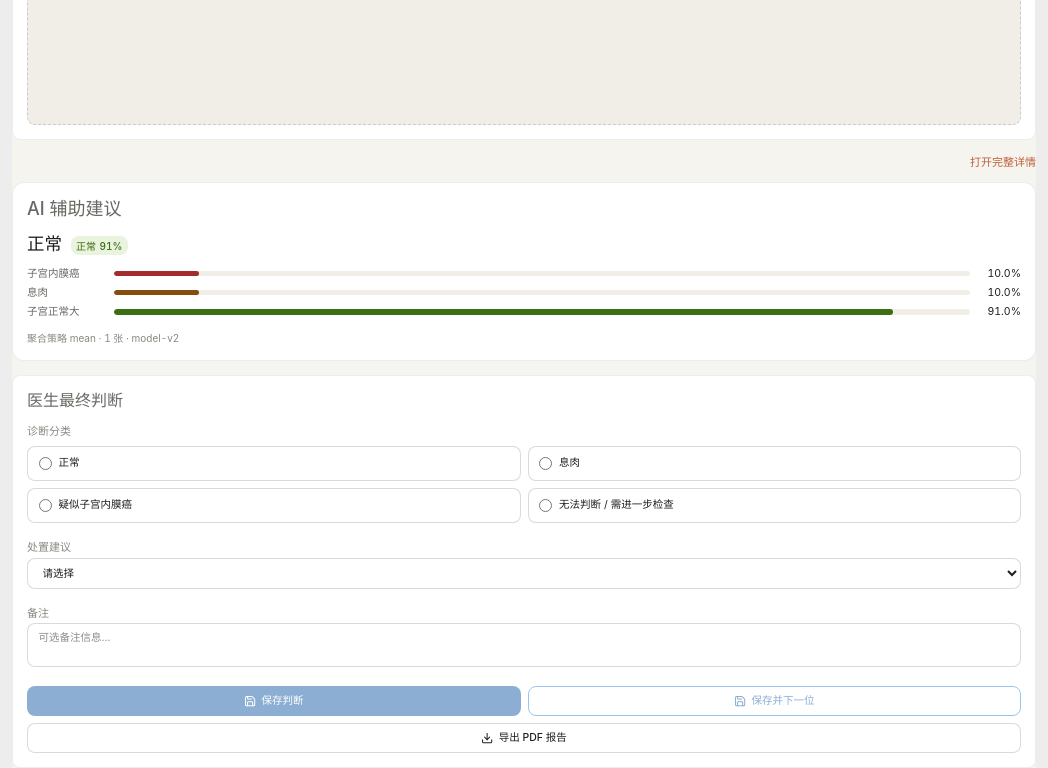
Test: BatchDetail continuous diagnosis workflow › discards a dirty form and selects the first visible patient after confirmation
This screenshot has width=1048, height=768.
(page scrolled)
Type "不应保留的内容" into the text box labelled "备注" at (524, 645), box [27,623,1021,667]
(page scrolled)
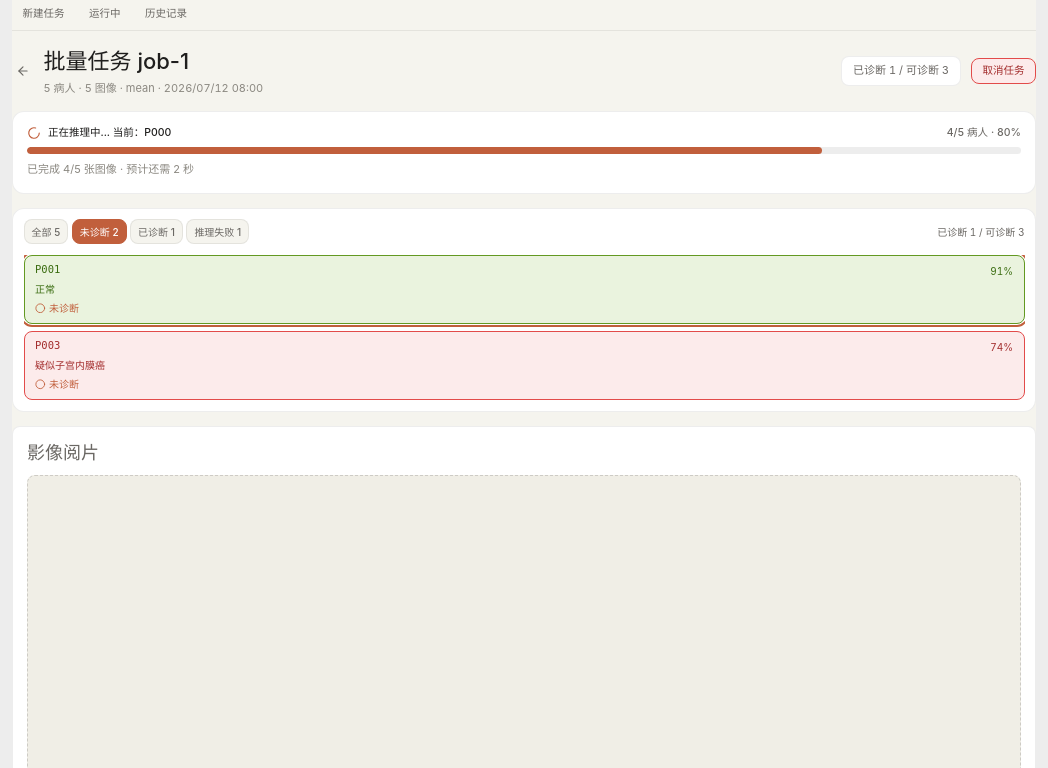
Click the button "已诊断 1" at (156, 232), box [130,219,183,244]
(page scrolled)
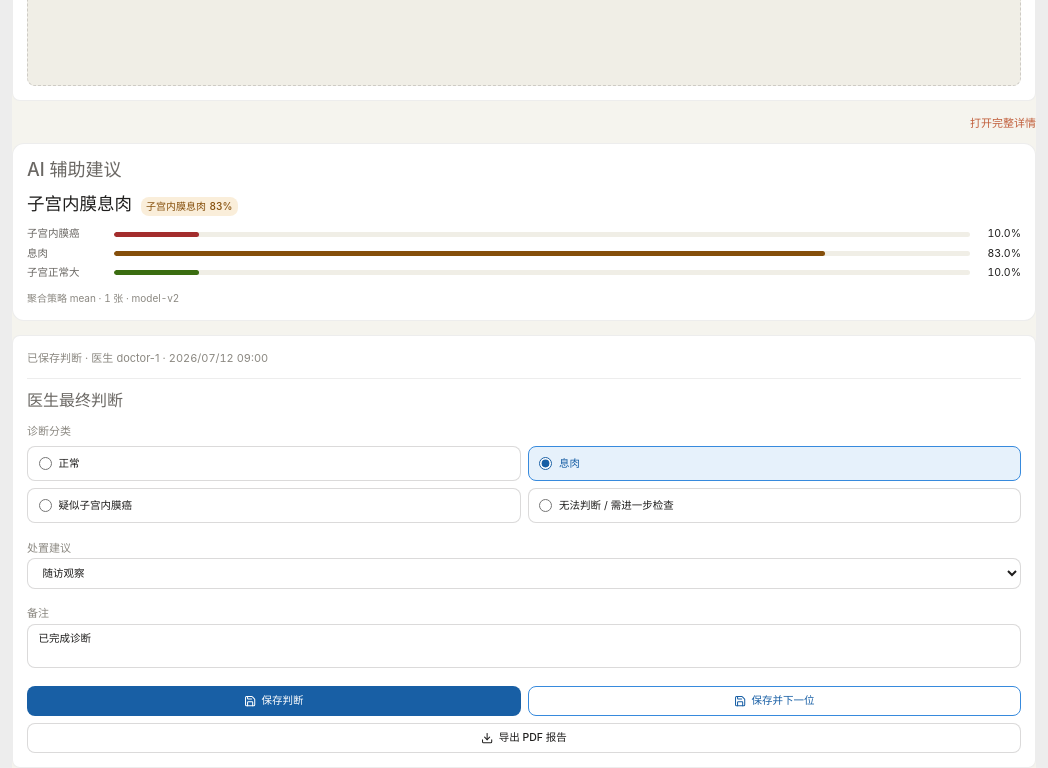
Expected: the text box labelled "备注" holds "已完成诊断", [27,624,1021,668]
